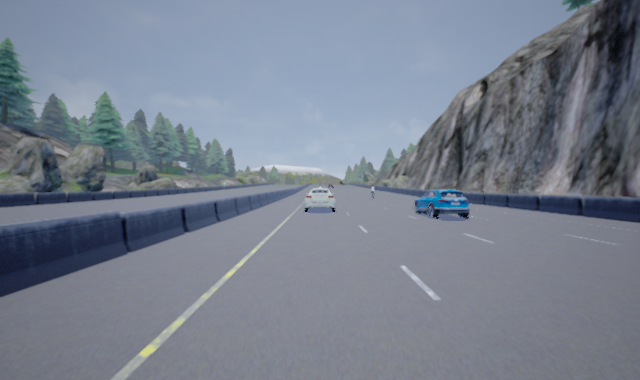bike: (370, 185, 376, 200)
vehicle: (413, 188, 476, 219), (303, 187, 336, 213)
